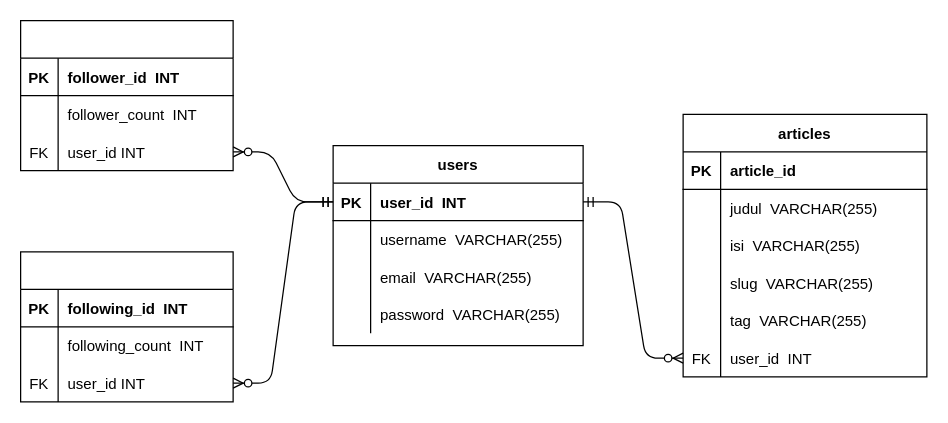
Image size: 948x423. Some labels were removed from this diagram. The box of each missing label's shape, as (x1, y1, x2, y2) in pixels:
followers: (19, 19, 233, 171)
followings: (19, 251, 233, 402)
